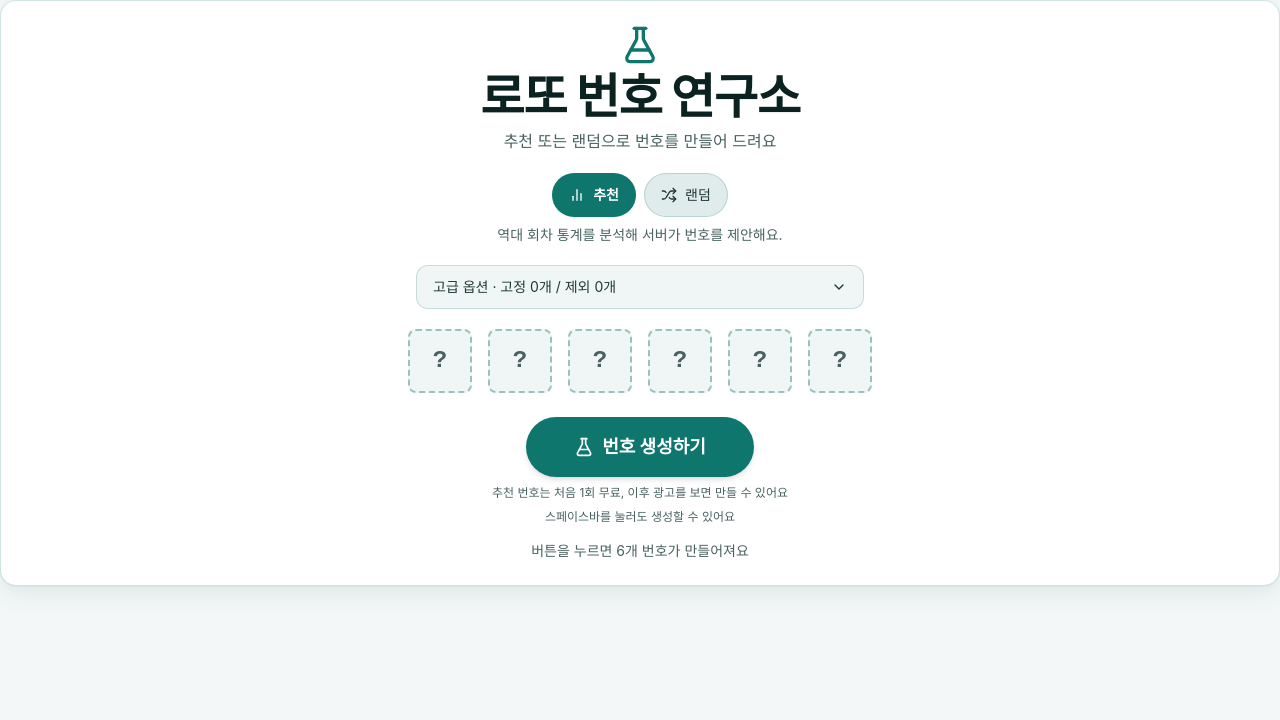
Test: Generator › 추천 성공 시 결과와 완료 문구를 보여 주고 대체 안내는 없다
Click the button "번호 생성하기" at (640, 447), box x1=526 y1=417 x2=754 y2=477
Wait 5000 ms
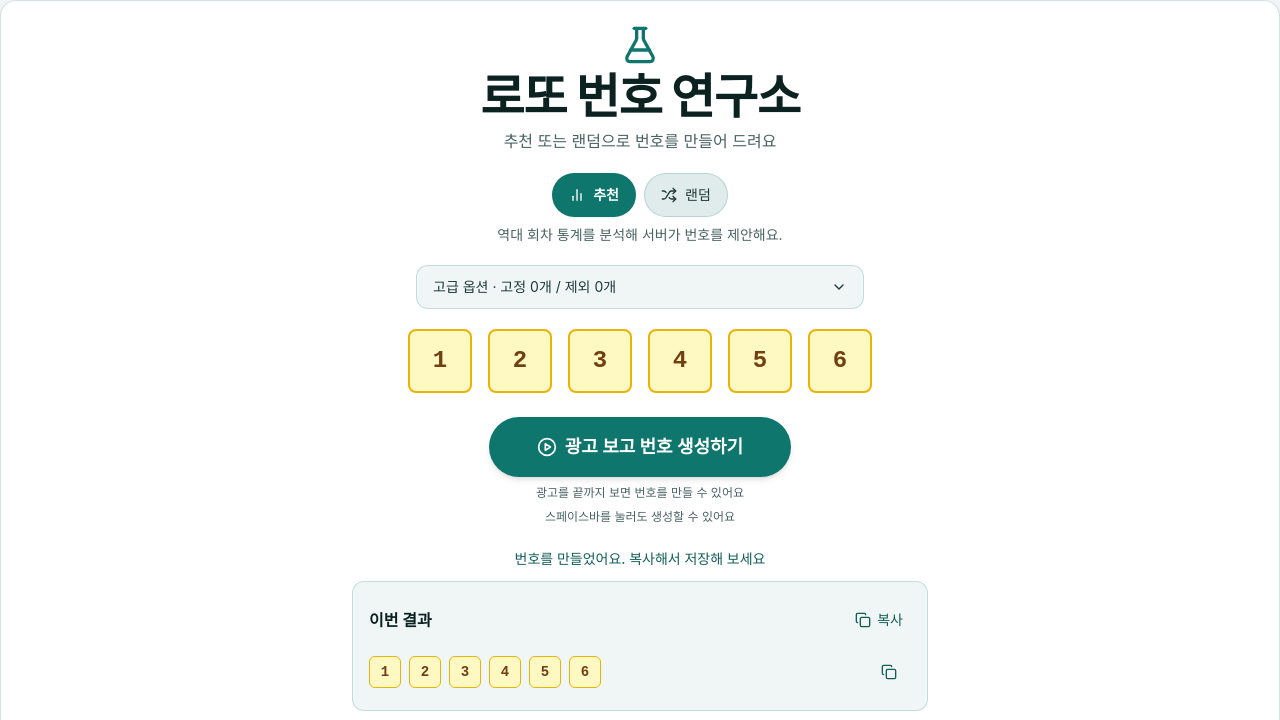
Result: the text "번호를 만들었어요. 복사해서 저장해 보세요" is shown at x1=515 y1=550 x2=766 y2=567
